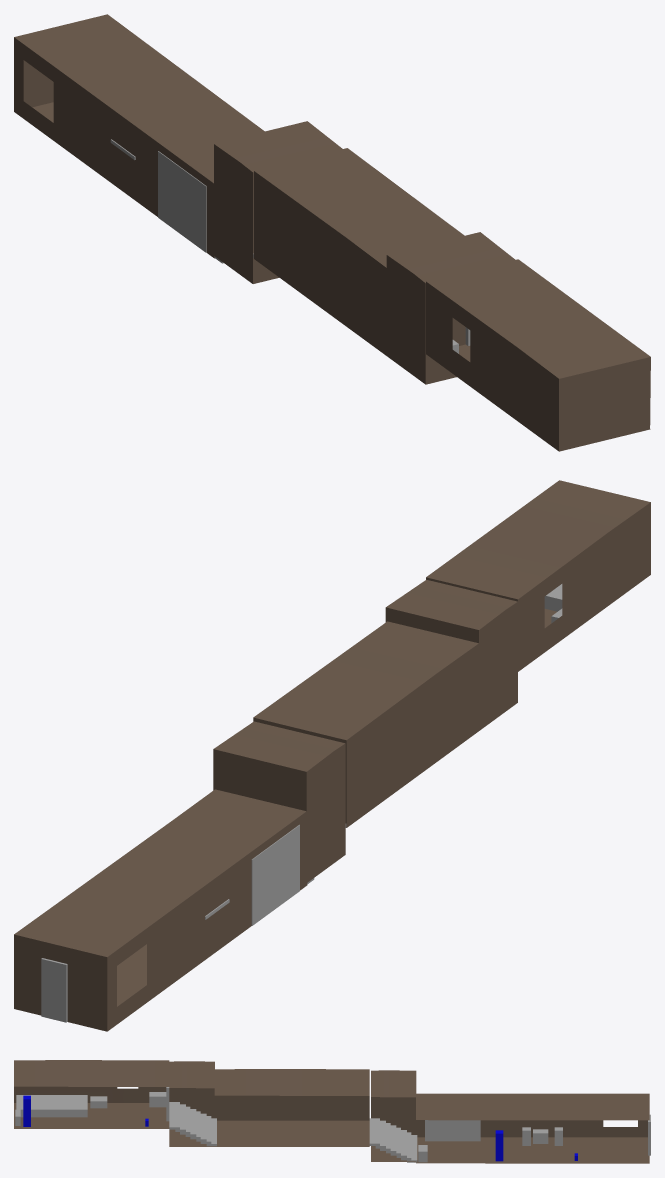
File: blockingopen.fbx
3 renders of one model, top to bottom at view 1: azimuth 30°, elevation 25°; view 2: azimuth 150°, elevation 25°; view 3: azimuth 270°, elevation 25°, orthographic. The views are drawn at different scales.
Parts seen in each view (by area): view 1: room:polySurface1, polySurface2, polySurface1, polySurface4, polySurface3, pCube15; view 2: polySurface2, polySurface1, room:polySurface1, polySurface4, polySurface3, pCube15, pCube30; view 3: polySurface2, polySurface1, room:polySurface1, polySurface4, polySurface3, steps1, pCube3, steps, pCube15, pCube5, pCube24, pCube1 (+3 smaller).
Boxes of the visible parts, x1,y1,x2,y2 form: room:polySurface1: (426,259,650,451); polySurface2: (14,14,264,258); polySurface1: (254,148,464,355); polySurface4: (214,121,342,283); polySurface3: (386,232,515,384); pCube15: (158,151,206,252); polySurface2: (14,789,307,1031); polySurface1: (253,621,479,827); room:polySurface1: (426,480,650,671); polySurface4: (213,721,345,882); polySurface3: (385,579,517,730); pCube15: (251,824,299,925); pCube30: (41,958,67,1022); polySurface2: (416,1093,649,1163); polySurface1: (214,1069,369,1146); room:polySurface1: (14,1060,169,1128); polySurface4: (371,1070,416,1162); polySurface3: (169,1061,214,1146); steps1: (369,1118,417,1162); pCube3: (16,1095,87,1117); steps: (169,1102,216,1146); pCube15: (425,1120,480,1141); pCube5: (149,1092,166,1107); pCube24: (495,1130,503,1161); pCube1: (23,1095,30,1126).
Bounding box in the file's own units: 3.76 × 5.06 × 37.66.
